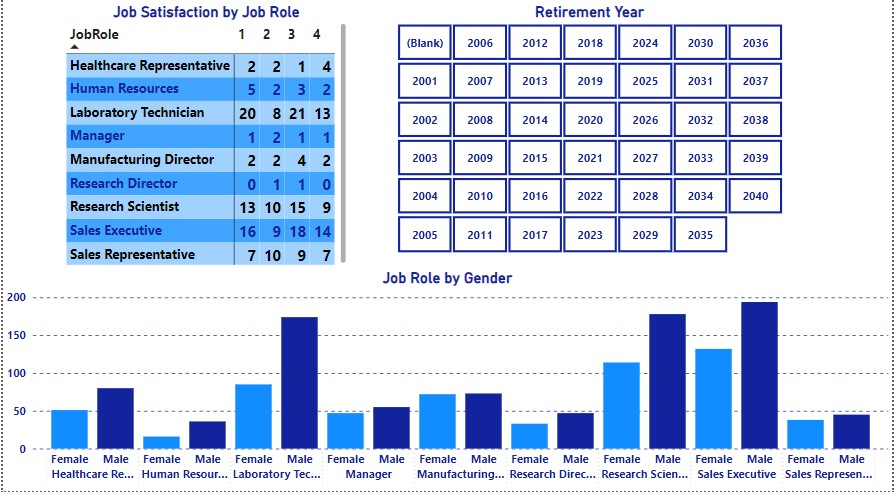

Layout of this report page (visuals, bound fields, positions):
{"tool":"powerbi","page":{"name":"03","canvas":[1280,720],"ordinal":2},"visuals":[{"type":"pivotTable","title":"Job Satisfaction by Job Role","fields":{"Rows":["HR_DATA.JobRole"],"Columns":["HR_DATA.JobSatisfaction"],"Values":["Sum(HR_DATA.Attrition)"]},"box":[86.4,17.3,413.3,381.6],"z":0},{"type":"slicer","title":"Retirement Year","fields":{"Values":["HR_DATA.RetirementYear"]},"box":[542.9,17.3,603.4,365.8],"z":1000},{"type":"columnChart","title":"Job Role by Gender","fields":{"Y":["CountNonNull(HR_DATA.Gender)"],"Category":["HR_DATA.JobRole","HR_DATA.Gender"]},"box":[0,400.3,1280.2,319.7],"z":2000}]}

Visuals, with their boxes in screenshot pixels (x1, y1, x2, y2), scaled from the page's 1280x720 canvas onto the 895x492 screenshot:
"Job Satisfaction by Job Role" pivotTable: (x1=60, y1=12, x2=349, y2=273)
"Retirement Year" slicer: (x1=380, y1=12, x2=802, y2=262)
"Job Role by Gender" columnChart: (x1=0, y1=274, x2=894, y2=491)
